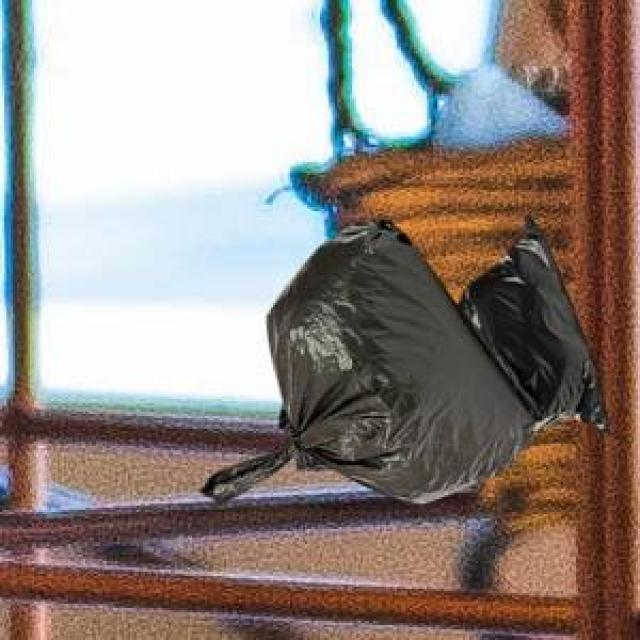Trashbag: (265, 211, 608, 513)
